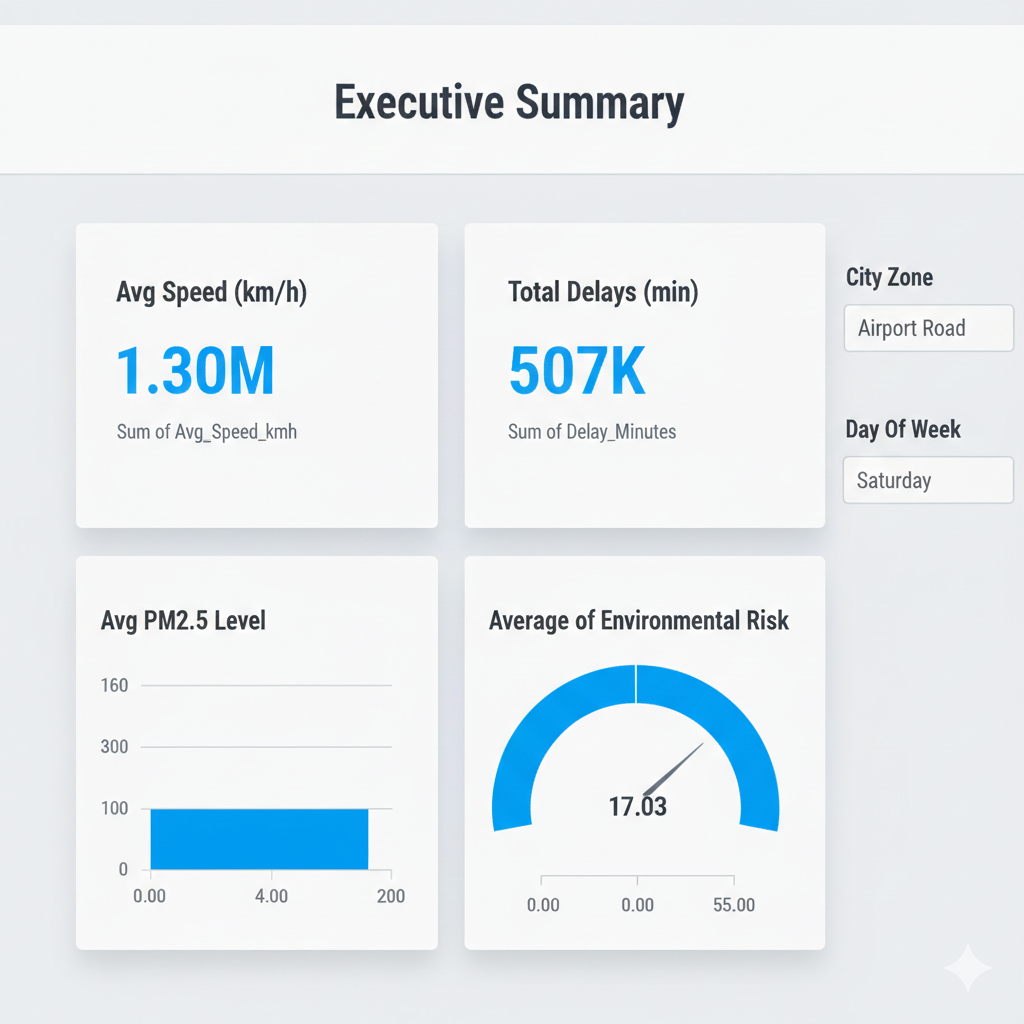

The page's visual inventory and layout, read from the dashboard file:
{"tool":"powerbi","page":{"name":"Executive Summary","canvas":[1280,720],"ordinal":0},"visuals":[{"type":"clusteredColumnChart","title":"Avg PM2.5","fields":{"Y":["Avg(Clean_Master_Data.PM2_5_Level)"]},"box":[466,374,450,346],"z":1000},{"type":"cardVisual","title":"Total Delays (min)","fields":{"Data":["Sum(Clean_Master_Data.Delay_Minutes)"]},"box":[498,0,446,350],"z":2000},{"type":"cardVisual","title":"Avg Speed (km/h)","fields":{"Data":["Sum(Clean_Master_Data.Avg_Speed_kmh)"]},"box":[52,0,446,346],"z":3000},{"type":"gauge","fields":{"Y":["Avg(Clean_Master_Data.Environmental_Risk)"]},"box":[0,345,450,375],"z":4000},{"type":"slicer","fields":{"Values":["Clean_Master_Data.City_Zone"]},"box":[921.7,136.7,358.3,71.7],"z":5000},{"type":"slicer","fields":{"Values":["Clean_Master_Data.Day_Of_Week"]},"box":[916.7,360,358.3,68.3],"z":6000}]}

Visuals, with their boxes on the page's 1280x720 design canvas (x1, y1, x2, y2). These are canvas units, not pixel positions in the 1024x1024 screenshot, which may show the page scaled, cropped or inside an application window:
"Avg PM2.5" clusteredColumnChart: left=466, top=374, right=916, bottom=720
"Total Delays (min)" cardVisual: left=498, top=0, right=944, bottom=350
"Avg Speed (km/h)" cardVisual: left=52, top=0, right=498, bottom=346
gauge - Avg(Clean_Master_Data.Environmental_Risk): left=0, top=345, right=450, bottom=720
slicer - Clean_Master_Data.City_Zone: left=922, top=137, right=1280, bottom=208
slicer - Clean_Master_Data.Day_Of_Week: left=917, top=360, right=1275, bottom=428
